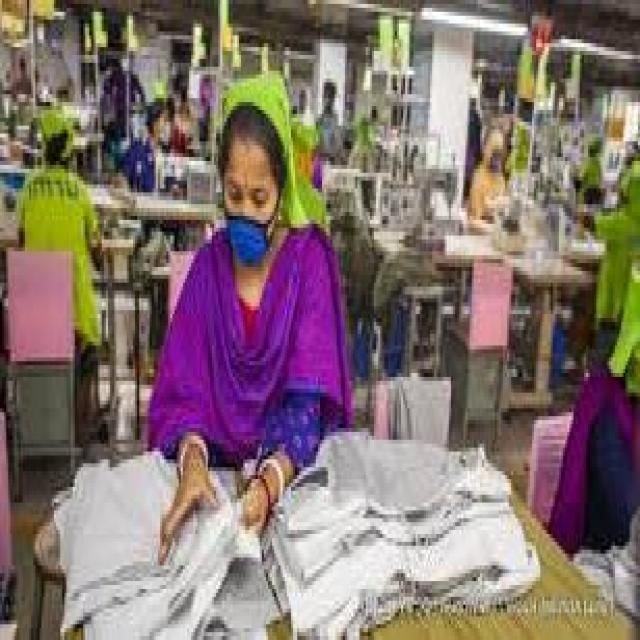Reflective-Jacket: (6, 161, 108, 361)
